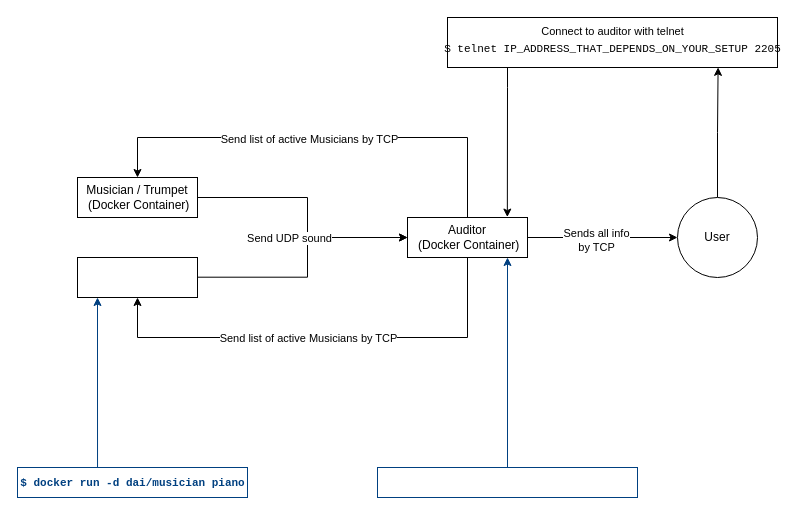
Image size: 798x515. Some labels were removed from this diagram. Here are the shapes that lost their labels. From the top down, the centre of each, then its label:
pixel 137 277: Musician / Piano (Docker Container)
pixel 507 482: $ docker run -d -p 2205:2205 dai/auditor
